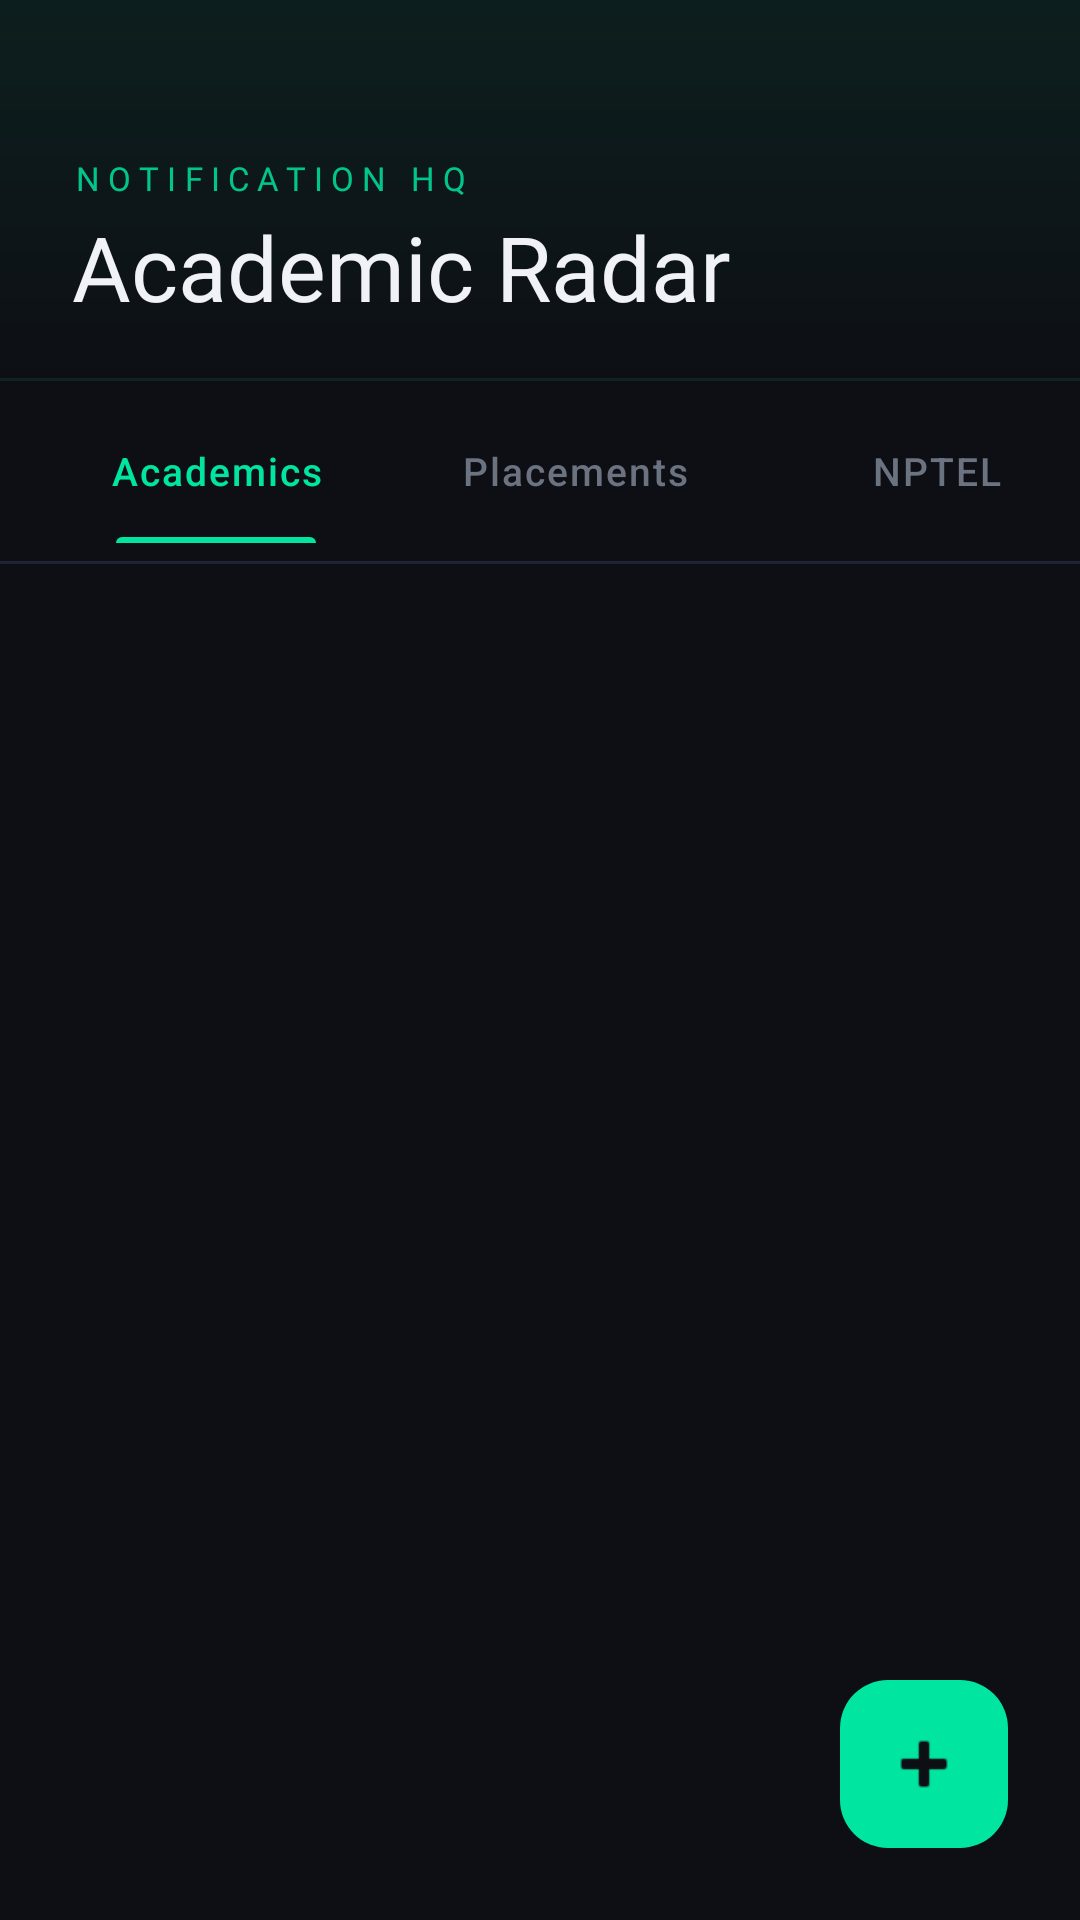

Icon bounding boxes for this 1080×1920 phone screenshot, format [x1, y1, x2, y2]:
Add Course: [840, 1680, 1008, 1848]
